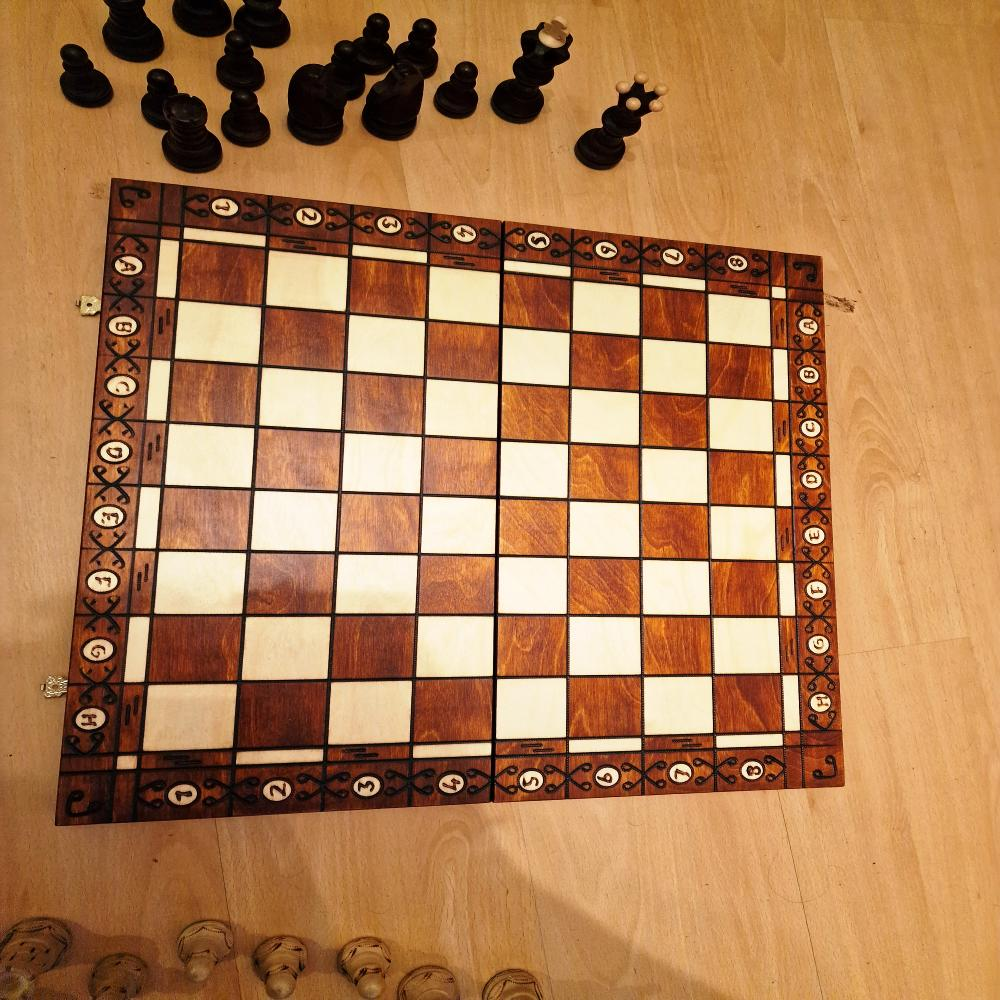chessfield: (148, 618, 241, 685), (145, 684, 235, 752), (238, 683, 328, 750), (243, 618, 332, 683), (162, 492, 252, 556), (171, 359, 258, 424), (167, 423, 254, 487), (330, 682, 414, 748), (155, 550, 243, 613), (257, 308, 344, 371), (178, 247, 263, 311), (247, 551, 333, 614), (334, 618, 418, 682), (175, 303, 261, 365), (254, 429, 339, 491), (258, 368, 343, 430), (413, 680, 494, 744), (250, 491, 336, 551), (262, 252, 345, 313), (414, 618, 495, 680), (335, 497, 417, 558), (343, 374, 424, 435), (337, 553, 419, 613), (347, 315, 426, 376), (342, 434, 422, 494), (418, 553, 496, 613), (568, 678, 642, 740), (349, 258, 425, 318), (422, 437, 498, 496), (423, 379, 498, 438), (420, 496, 496, 554), (568, 618, 641, 678), (425, 320, 498, 380), (499, 618, 569, 680), (499, 681, 570, 741), (426, 267, 499, 324), (567, 556, 640, 613), (641, 616, 711, 675), (500, 440, 571, 498), (503, 328, 573, 386), (710, 616, 781, 673), (643, 678, 712, 736), (713, 677, 782, 735), (499, 555, 569, 612), (501, 384, 571, 441), (571, 333, 641, 390), (500, 498, 570, 555), (503, 277, 572, 334), (570, 392, 640, 448), (639, 447, 709, 503), (569, 444, 639, 500), (569, 501, 640, 556), (638, 396, 708, 451), (640, 341, 707, 398), (641, 559, 709, 615), (571, 283, 640, 338), (640, 503, 708, 558), (708, 505, 775, 560), (709, 560, 776, 614), (640, 289, 707, 343), (708, 450, 773, 505), (707, 346, 771, 401), (706, 401, 772, 453), (706, 296, 770, 348)
